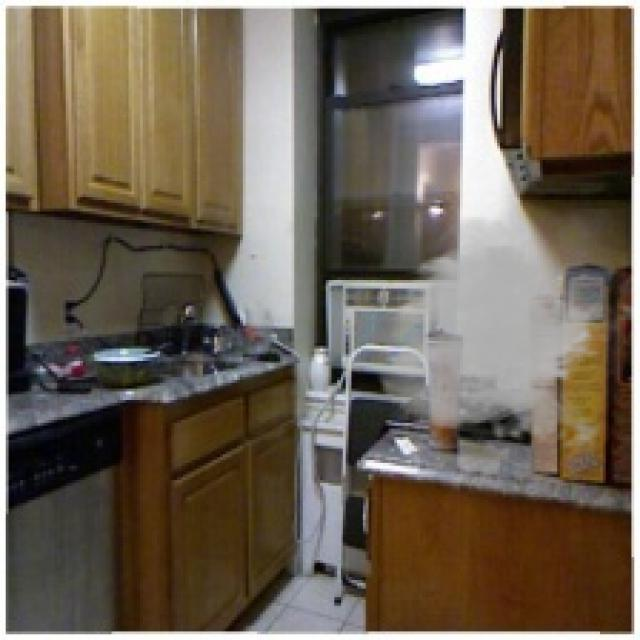Smoke: (374, 209, 626, 457)
